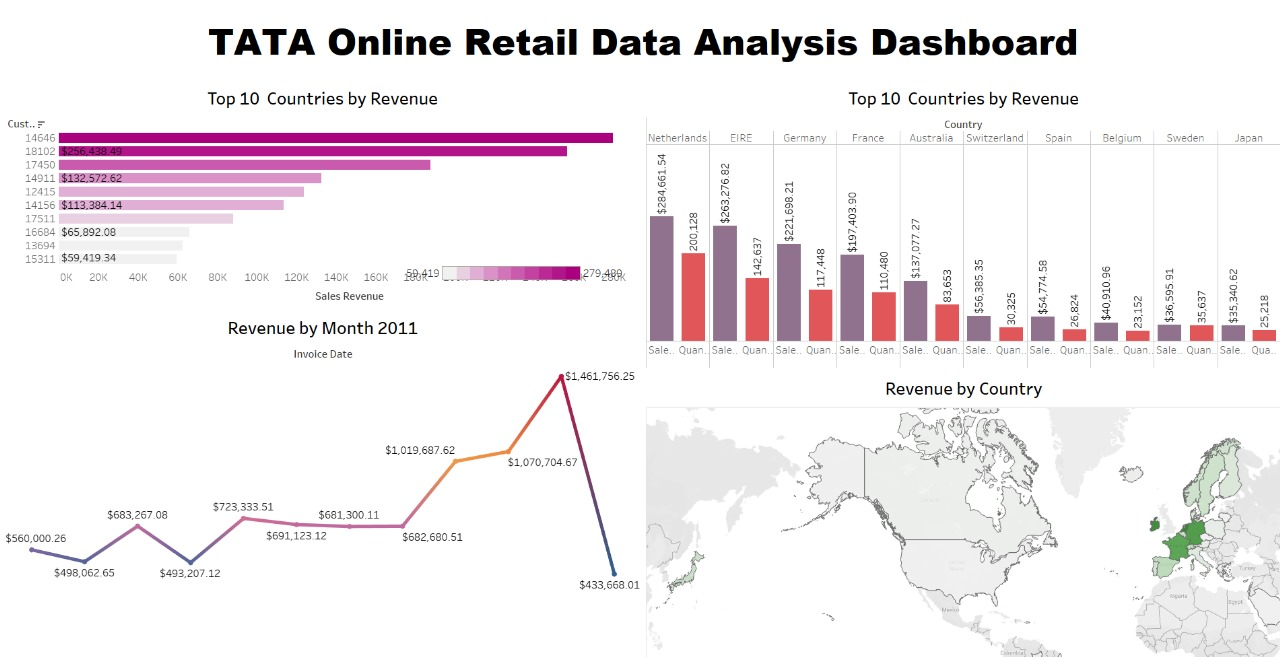

The dashboard page shown, as its layout file describes it:
{"tool":"tableau","page":{"name":"Dashboard 1","canvas":[1000,1000],"units":"permille","ordinal":0},"visuals":[{"type":"text","box":[4.9,9.9,990.2,114]},{"type":"worksheet","title":"Top 10  Customers by Revenue","mark":"Automatic","rows":["CustomerID"],"cols":["Calculation_826903123628978179"],"box":[4.9,123.9,495.1,422.6]},{"type":"worksheet","title":"Top 10  Countries by Revenue","mark":"Automatic","cols":["Country"],"box":[500,123.9,495.1,411.1]},{"type":"legend","title":"Top 10  Customers by Revenue","param":"[federated.19k0isn0407ztr1alng5v1a1b522].[sum:Calculation_826903123628978179:qk]","box":[314.5,360.6,172,54.5]},{"type":"worksheet","title":"Revenue by Country","mark":"Automatic","box":[500,534.9,495.1,455.2]},{"type":"worksheet","title":"Revenue by Month 2011","mark":"Line","rows":["Calculation_826903123628978179"],"cols":["InvoiceDate"],"box":[4.9,546.4,495.1,443.7]}]}

Visuals, with their boxes on the dashboard's canvas, which has no fixed pixel size, in thousandths of its width and height (x1, y1, x2, y2). These are canvas units, not pixel positions in the 1280x657 screenshot, which may show the page scaled, cropped or inside an application window:
text: crop(5, 10, 995, 124)
"Top 10  Customers by Revenue" worksheet: crop(5, 124, 500, 546)
"Top 10  Countries by Revenue" worksheet: crop(500, 124, 995, 535)
"Top 10  Customers by Revenue" legend: crop(314, 361, 486, 415)
"Revenue by Country" worksheet: crop(500, 535, 995, 990)
"Revenue by Month 2011" worksheet (Line marks): crop(5, 546, 500, 990)
